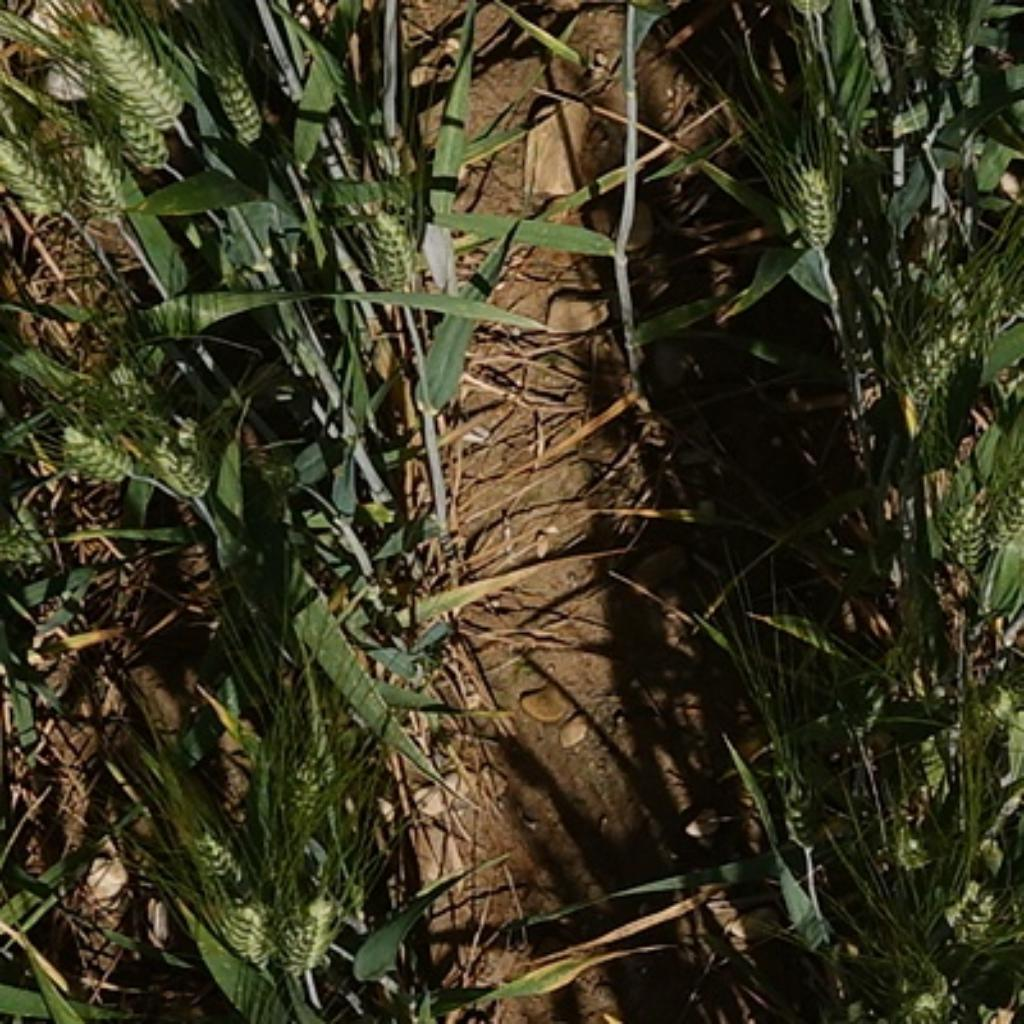0-0: (878, 281, 1006, 424), (74, 12, 194, 135), (256, 721, 355, 865), (939, 468, 1006, 593), (276, 878, 353, 985), (199, 38, 273, 145), (204, 888, 281, 988), (775, 740, 837, 861), (936, 855, 1024, 936), (48, 422, 140, 499), (360, 199, 424, 302), (74, 125, 133, 235), (921, 10, 990, 102), (780, 148, 844, 245), (145, 428, 218, 511), (880, 954, 962, 1024), (983, 435, 1024, 573), (0, 138, 66, 222), (965, 673, 1024, 760), (181, 814, 253, 883), (980, 235, 1024, 332), (110, 109, 168, 175)
